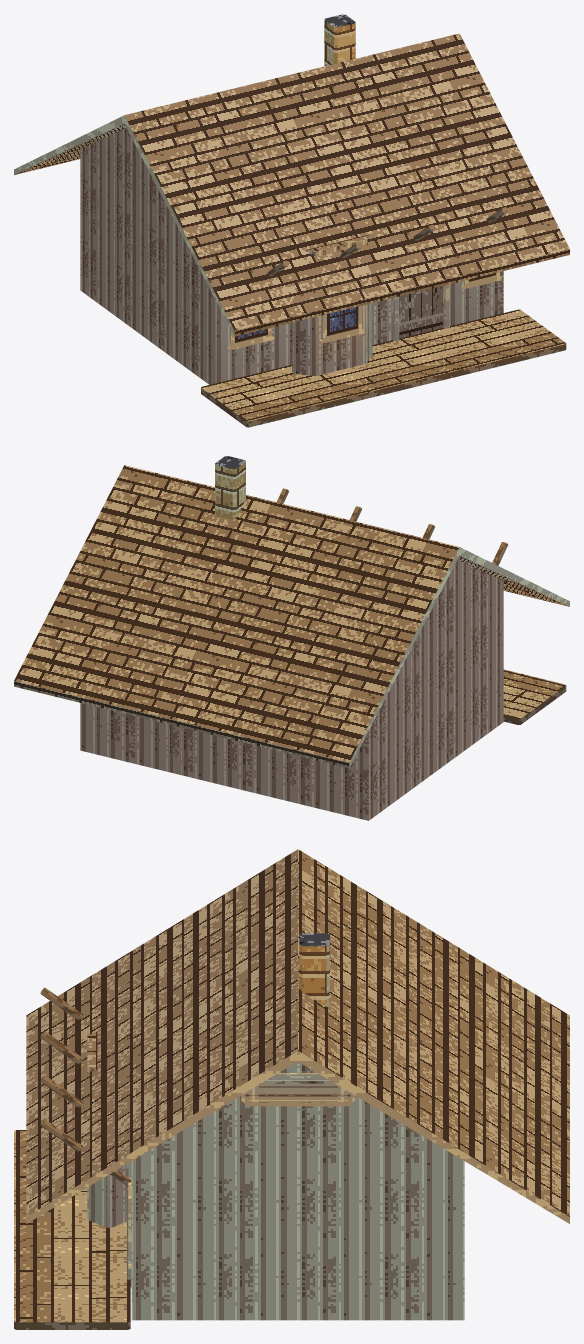
Rendered from wrail.station__small.glb.
3 renders of one model, top to bottom at view 1: azimuth 30°, elevation 25°; view 2: azimuth 150°, elevation 25°; view 3: azimuth 270°, elevation 25°, orthographic. The views are drawn at different scales.
Visible parts, largest first — view 1: kit_roof, kit_body, kit_deck, kit_bay, kit_card_panes, kit_chimney, kit_windows, kit_trim, kit_braces; view 2: kit_roof, kit_body, kit_deck, kit_chimney, kit_braces; view 3: kit_roof, kit_body, kit_deck, kit_bay, kit_card_panes, kit_chimney, kit_braces, kit_trim.
Part boxes in pixels (x1=…): kit_roof: x1=14, y1=33, x2=569, y2=336; kit_body: x1=80, y1=128, x2=503, y2=384; kit_deck: x1=201, y1=309, x2=566, y2=427; kit_bay: x1=292, y1=234, x2=372, y2=375; kit_card_panes: x1=235, y1=273, x2=496, y2=342; kit_chimney: x1=324, y1=14, x2=355, y2=66; kit_windows: x1=227, y1=272, x2=502, y2=350; kit_trim: x1=392, y1=284, x2=449, y2=340; kit_braces: x1=267, y1=207, x2=508, y2=276; kit_roof: x1=14, y1=465, x2=569, y2=768; kit_body: x1=80, y1=560, x2=503, y2=820; kit_deck: x1=503, y1=669, x2=566, y2=724; kit_chimney: x1=215, y1=456, x2=245, y2=519; kit_braces: x1=277, y1=488, x2=507, y2=565; kit_roof: x1=26, y1=849, x2=569, y2=1223; kit_body: x1=131, y1=1061, x2=464, y2=1320; kit_deck: x1=14, y1=1130, x2=130, y2=1329; kit_bay: x1=87, y1=1031, x2=127, y2=1227; kit_card_panes: x1=245, y1=1078, x2=350, y2=1102; kit_chimney: x1=299, y1=933, x2=329, y2=1007; kit_braces: x1=40, y1=987, x2=131, y2=1186; kit_trim: x1=126, y1=1073, x2=355, y2=1287.
Size of the model in its own units: 8.6 by 6.5 by 10.02.
Materials: 10 (10 with a texture image).
